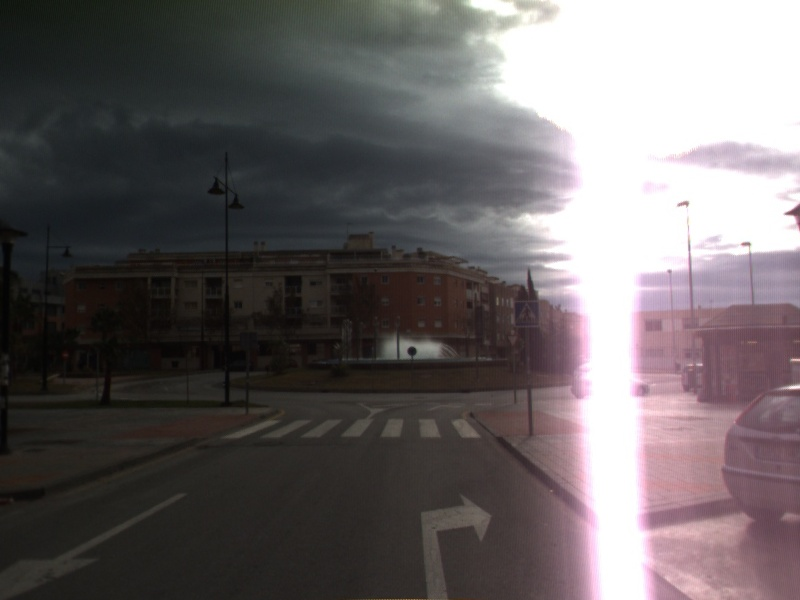RIGHT: (417, 489, 495, 600)
